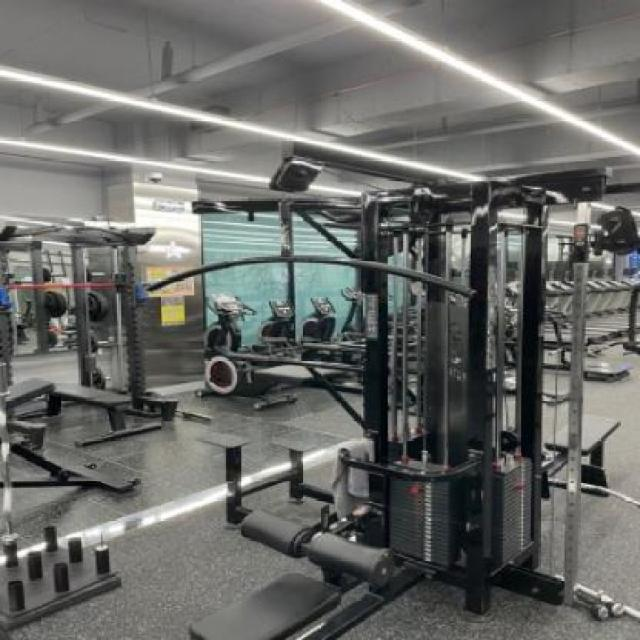Lat Pull Down: (101, 140, 640, 640)
